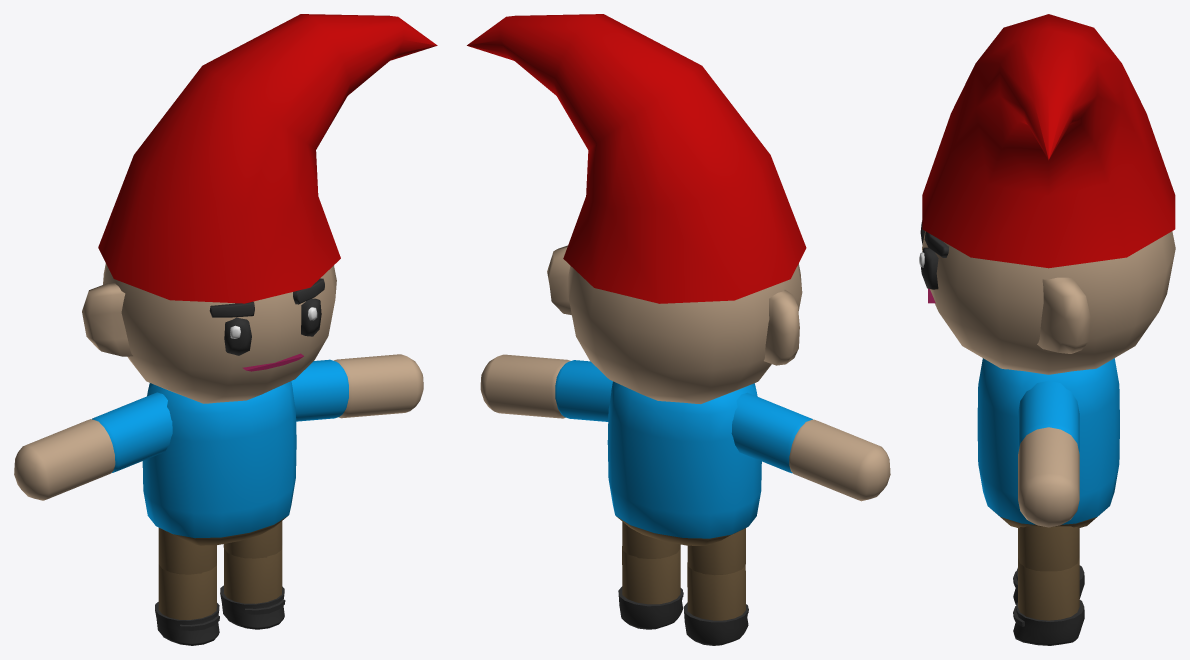
The model's file is Gnome_Model.fbx.
The picture shows the model from 3 angles, left to right: view 1: azimuth 30°, elevation 25°; view 2: azimuth 150°, elevation 25°; view 3: azimuth 270°, elevation 25°; orthographic projection. The views are drawn at different scales.
Parts seen in each view (by area): view 1: hat, torso, head, arm_R2, arm_L2, arm_R1, arm_L1, leg_R2, leg_L2, leg_R1, leg_L3, leg_R3 (+3 smaller); view 2: hat, head, torso, arm_R2, arm_L2, arm_R1, arm_L1, leg_R2, leg_L2, leg_R1, leg_L3, leg_R3 (+1 smaller); view 3: hat, head, torso, arm_L2, leg_L2, arm_L1, leg_L1, leg_L3, eyes_normal.
Boxes of the visible parts, x1,y1,x2,y2 form: hat: (98,14,437,303); torso: (142,381,296,545); head: (82,263,336,403); arm_R2: (14,419,115,500); arm_L2: (334,354,423,418); arm_R1: (92,392,172,472); arm_L1: (291,359,348,421); leg_R2: (158,563,216,619); leg_L2: (223,545,282,603); leg_R1: (158,528,216,574); leg_L3: (220,585,285,629); leg_R3: (155,602,219,645); hat: (467,14,806,303); head: (547,245,802,404); torso: (607,381,761,545); arm_R2: (789,419,890,501); arm_L2: (480,354,570,418); arm_R1: (731,392,812,473); arm_L1: (555,360,612,421); leg_R2: (687,562,745,620); leg_L2: (622,546,680,604); leg_R1: (687,528,745,575); leg_L3: (618,586,683,629); leg_R3: (683,602,748,645); hat: (922,14,1175,268); head: (922,231,1175,374); torso: (977,358,1119,528); arm_L2: (1018,427,1079,527); leg_L2: (1018,558,1079,620); arm_L1: (1018,380,1079,451); leg_L1: (1018,526,1079,571); leg_L3: (1013,600,1084,645); eyes_normal: (919,220,938,289).
Size of the model in its own units: 2.3 by 3.08 by 1.12.
